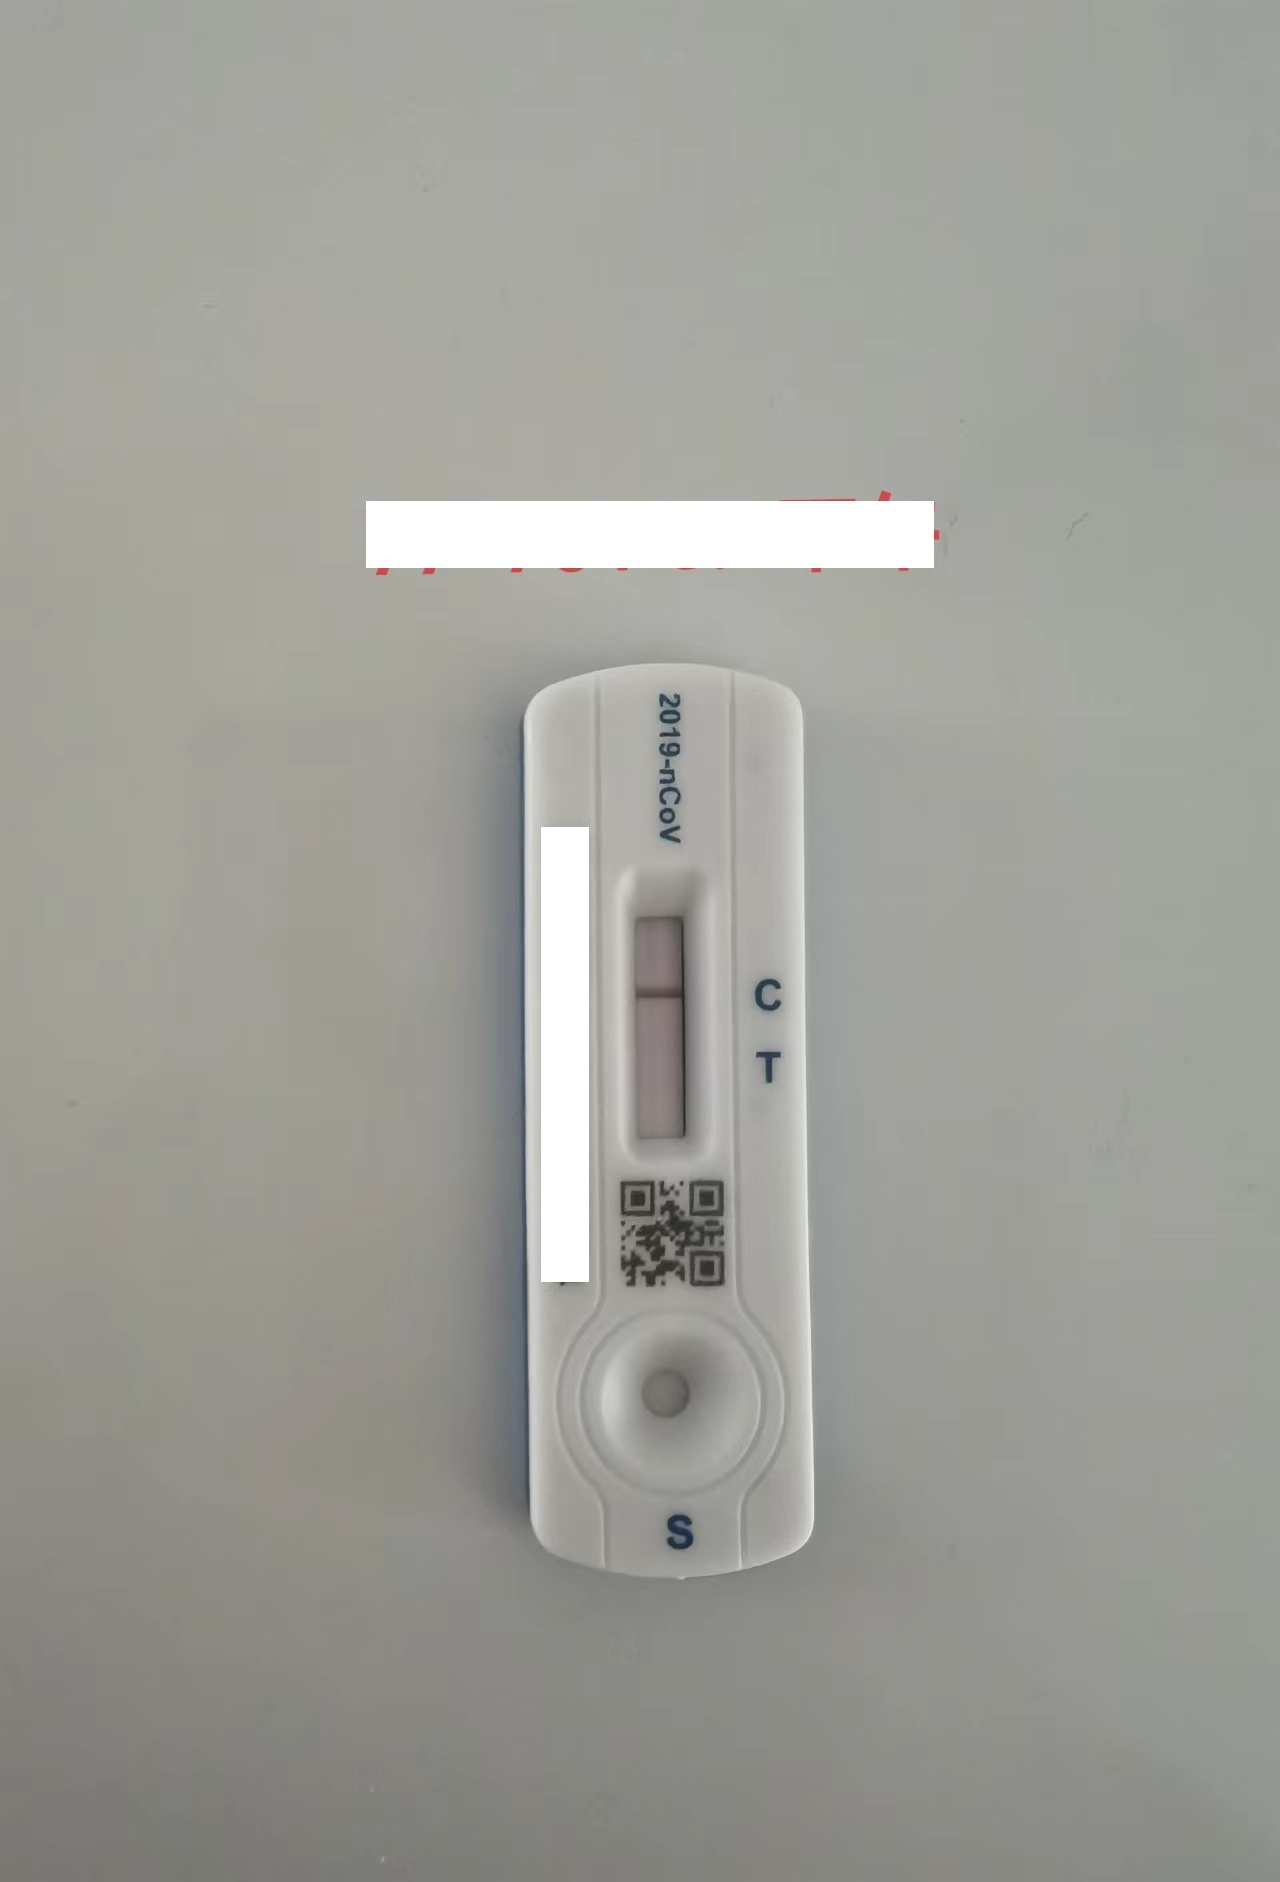negative: (616, 867, 707, 1177)
